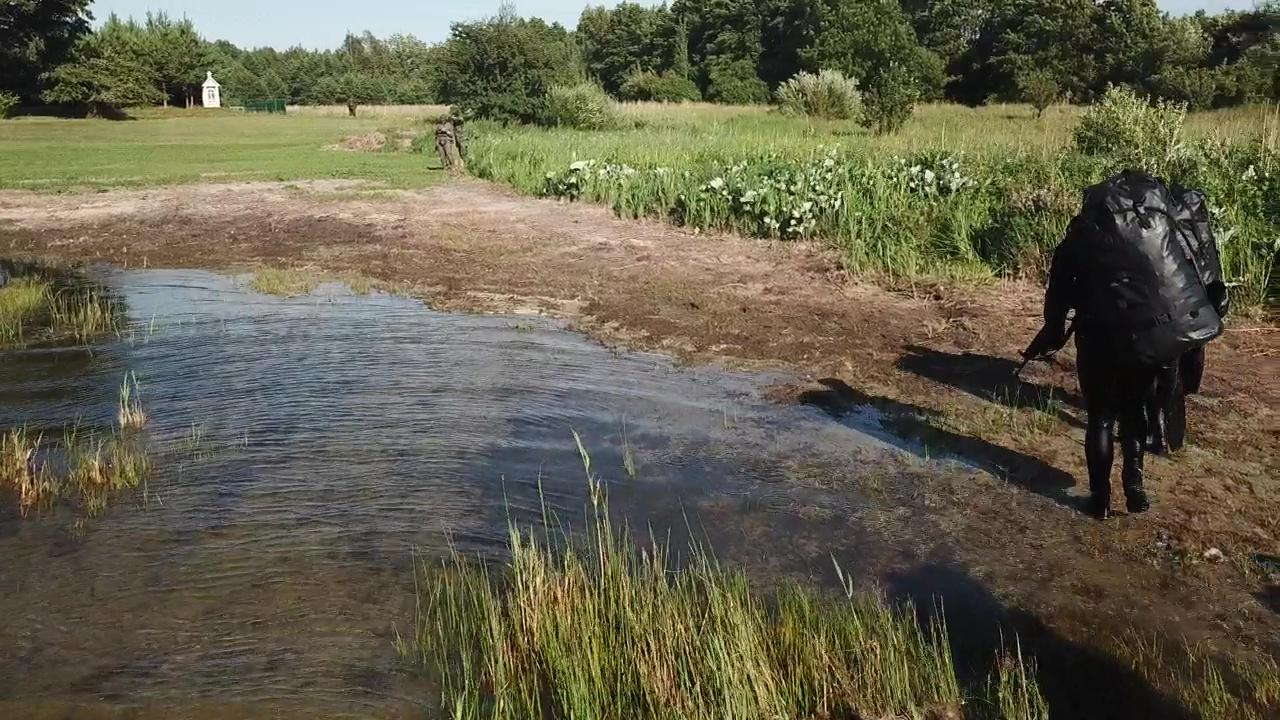Soldier: (1014, 168, 1221, 515)
